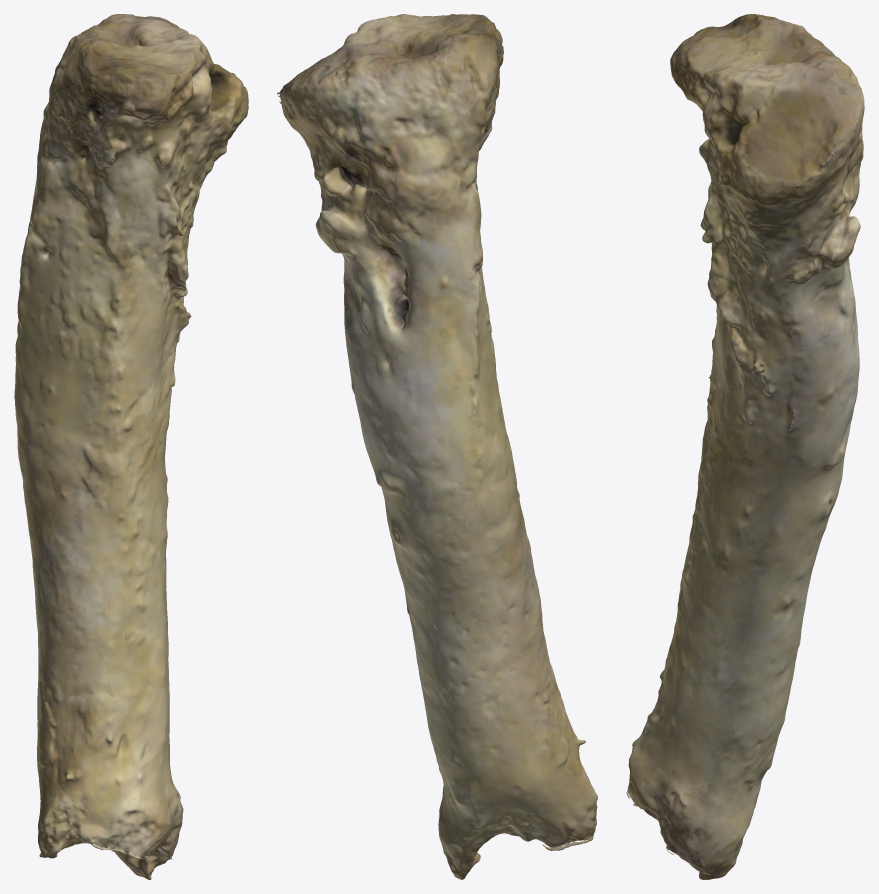
Rendered from tibia-s.glb.
The picture shows the model from 3 angles, left to right: view 1: azimuth 30°, elevation 25°; view 2: azimuth 150°, elevation 25°; view 3: azimuth 270°, elevation 25°; orthographic projection. The views are drawn at different scales.
Parts seen in each view (by area): view 1: defaultobject; view 2: defaultobject; view 3: defaultobject.
Boxes of the visible parts, box(x1,y1,x2,y2) form: defaultobject: box(14, 14, 248, 879); defaultobject: box(277, 14, 597, 879); defaultobject: box(626, 14, 864, 879).
Size of the model in its own units: 3158619 by 1.02e+07 by 2593435.
Materials: 1 (1 with a texture image).
